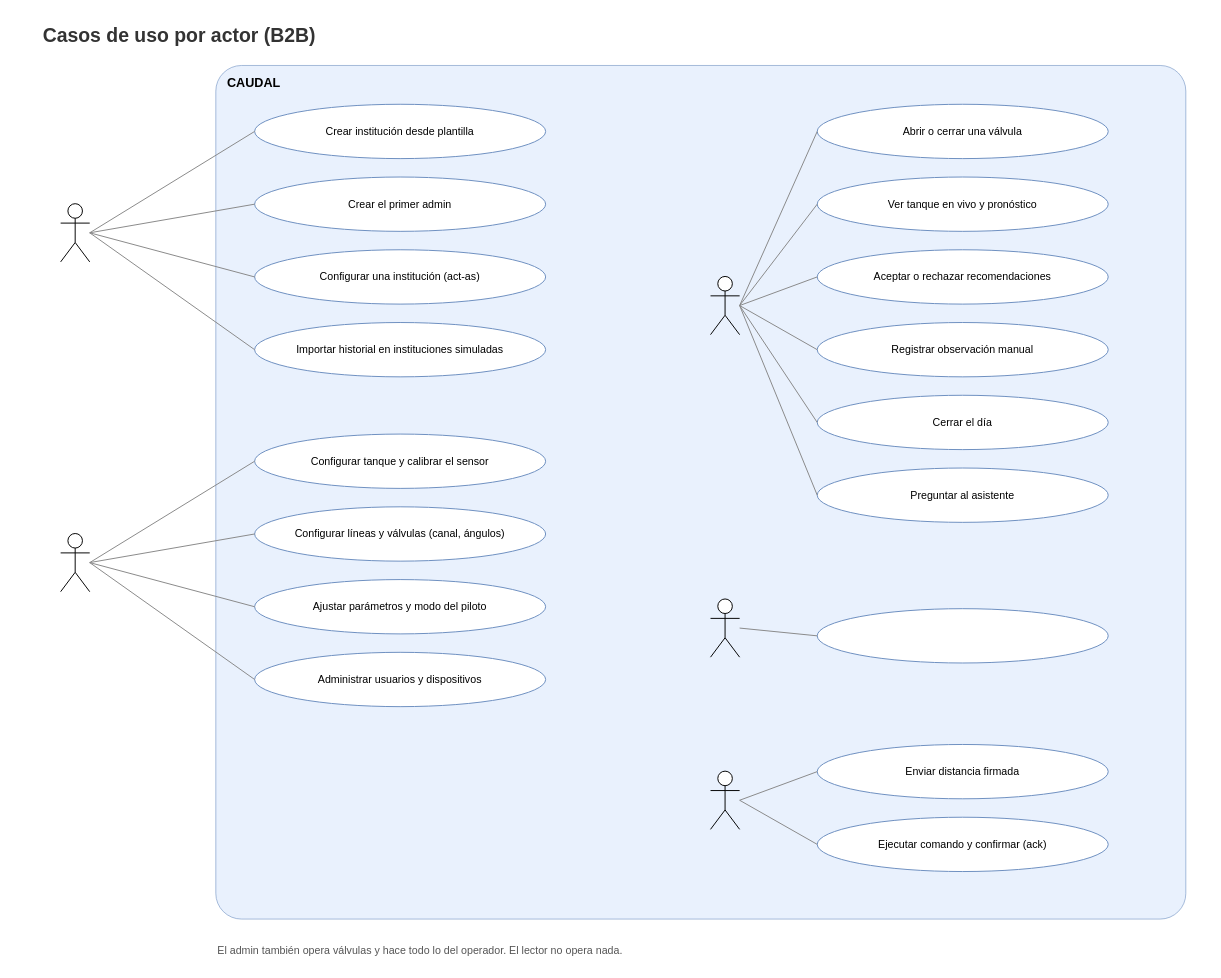
Some shapes in this 1221 by 978 pixel diagram are drawn without their labels. Each missing label, with the box of its shape:
Admin de la institución: (60, 533, 90, 592)
Consultar tanque, eventos y actas: (816, 608, 1108, 663)
Lector: (710, 598, 740, 657)
Operador: (710, 275, 740, 335)
Puente USB + Arduino UNO: (710, 770, 740, 829)
Superadmin CAUDAL: (60, 203, 90, 262)
